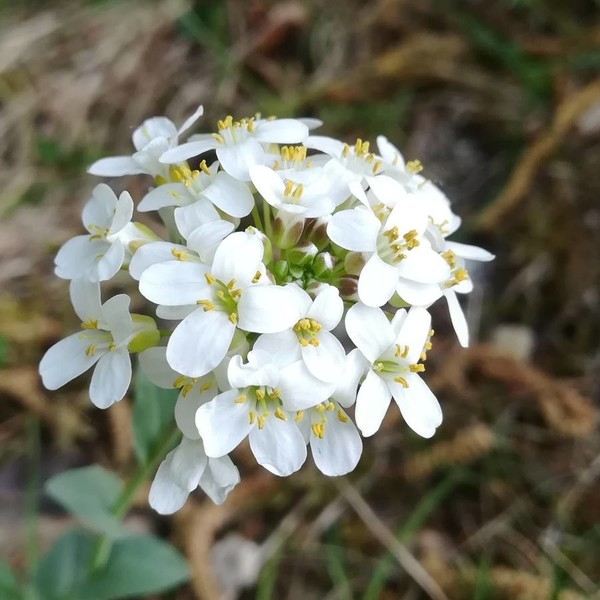obstacle: (39, 79, 485, 539)
